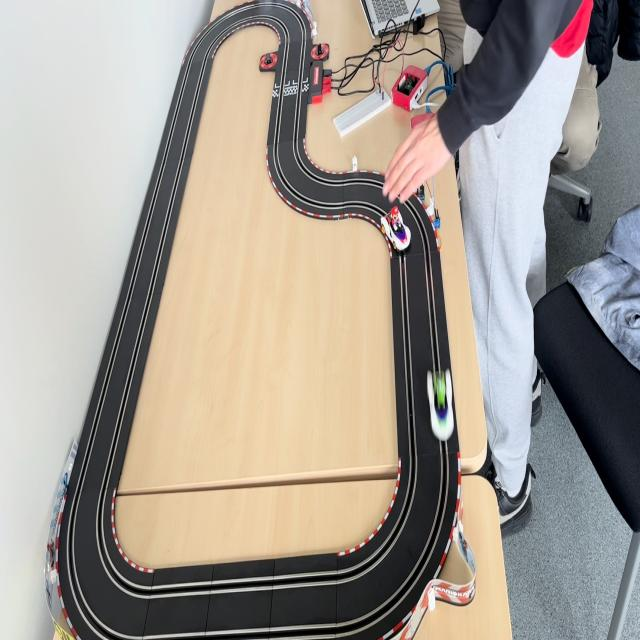mario: (375, 201, 415, 253)
yoshi: (426, 364, 454, 441)
